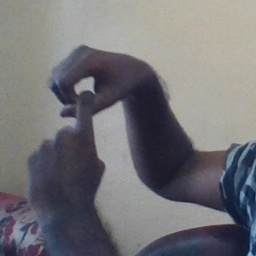Q: (22, 44, 145, 195)
